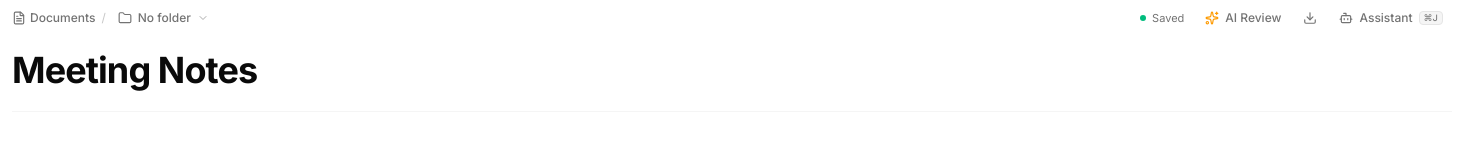
Test: DocumentHeader component › handles Escape keydown to revert title to initial
Replace the text in the text box showing "Meeting Notes" with "Draft Title To Discard" at (732, 70), box [12,48,1452,93]
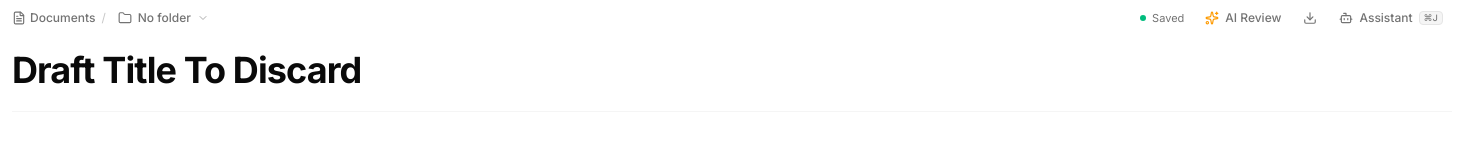
Press Escape in the text box showing "Meeting Notes", box [12,48,1452,93]
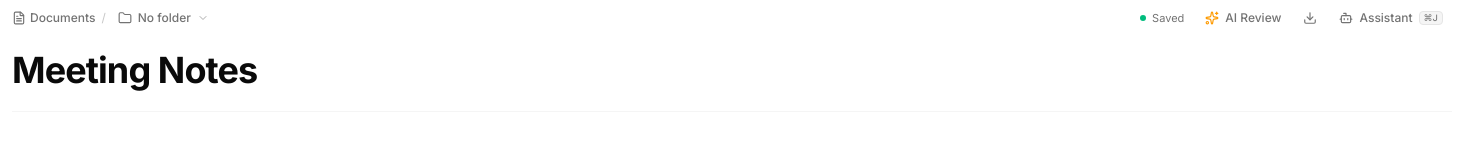
Expected: the text box showing "Meeting Notes" holds "Meeting Notes", [12,48,1452,93]
